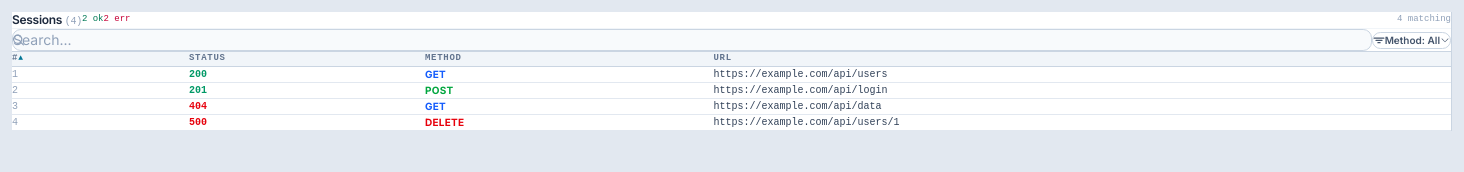
SessionGrid › should filter sessions by status code as search text is entered
The image size is (1464, 172).
Type "40" into the field with placeholder "Search..." at (692, 40), box top-left (12, 29), bottom-right (1372, 51)
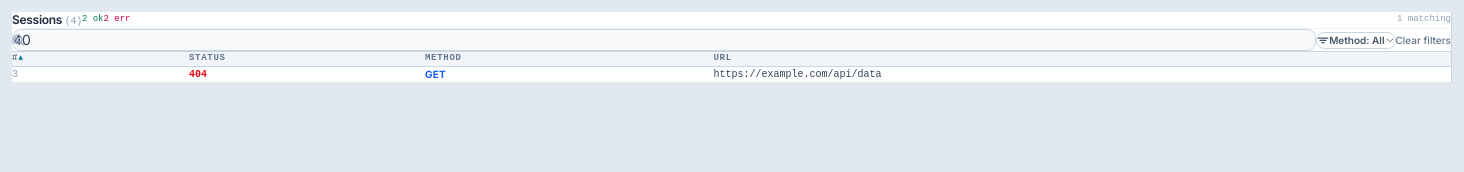
Expected: the number of rows is 2, top-left (12, 52), bottom-right (1451, 66); top-left (12, 66), bottom-right (1451, 82)
Expected: the text "500" is gone
